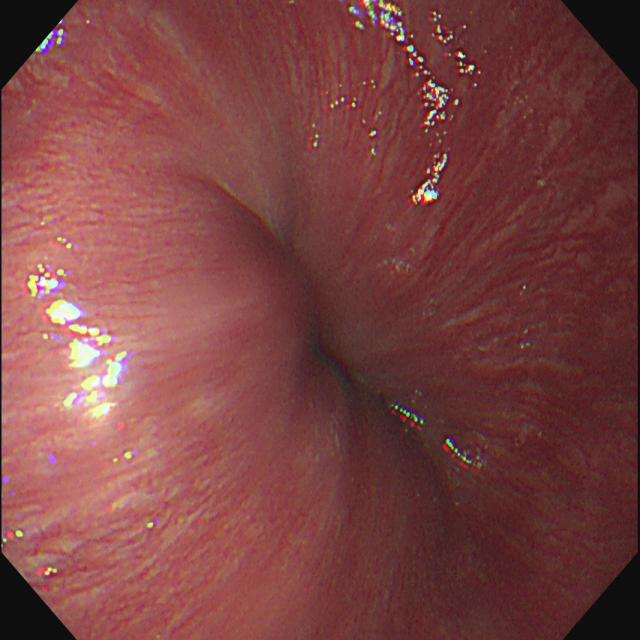I: (220, 183, 442, 484)
U: (348, 2, 483, 137), (24, 260, 128, 427), (307, 79, 385, 156), (410, 149, 449, 208), (31, 19, 69, 55), (384, 402, 429, 431), (441, 439, 485, 468), (2, 525, 28, 548)
